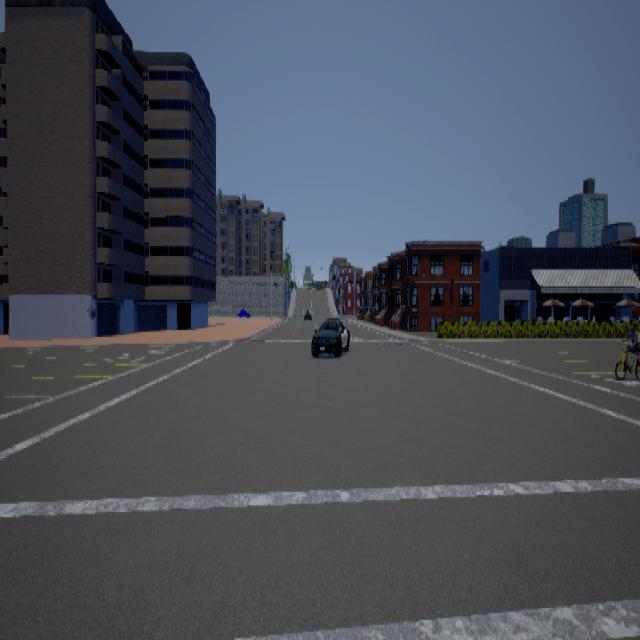bike: (611, 318, 640, 384)
vehicle: (312, 317, 351, 357)
